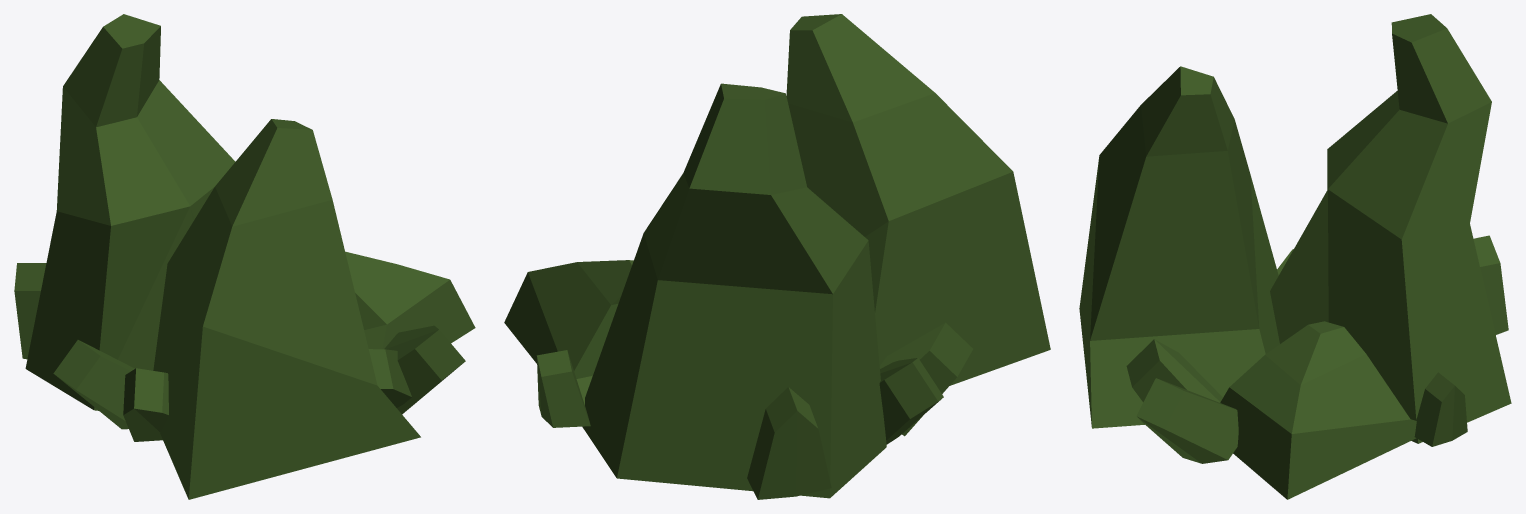
Rendered from lp_Rock_Type3_02_mesh_001_Cube_014.obj.
3 renders of one model, left to right at view 1: azimuth 30°, elevation 25°; view 2: azimuth 150°, elevation 25°; view 3: azimuth 270°, elevation 25°, orthographic. The views are drawn at different scales.
Visible parts, largest first — view 1: lp_Rock_Type3_02_mesh_001_Cube_014; view 2: lp_Rock_Type3_02_mesh_001_Cube_014; view 3: lp_Rock_Type3_02_mesh_001_Cube_014.
Part boxes in pixels (<box>): lp_Rock_Type3_02_mesh_001_Cube_014: <box>14,14,475,499</box>; lp_Rock_Type3_02_mesh_001_Cube_014: <box>504,14,1050,499</box>; lp_Rock_Type3_02_mesh_001_Cube_014: <box>1079,14,1511,499</box>.
Bounding box in the file's own units: 6.3 × 5.15 × 5.65.
